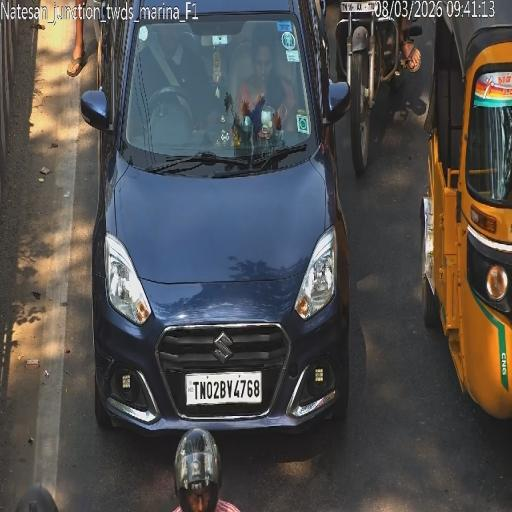person_with_seatbelt: (145, 26, 198, 130)
person_without_seatbelt: (240, 80, 292, 133)
